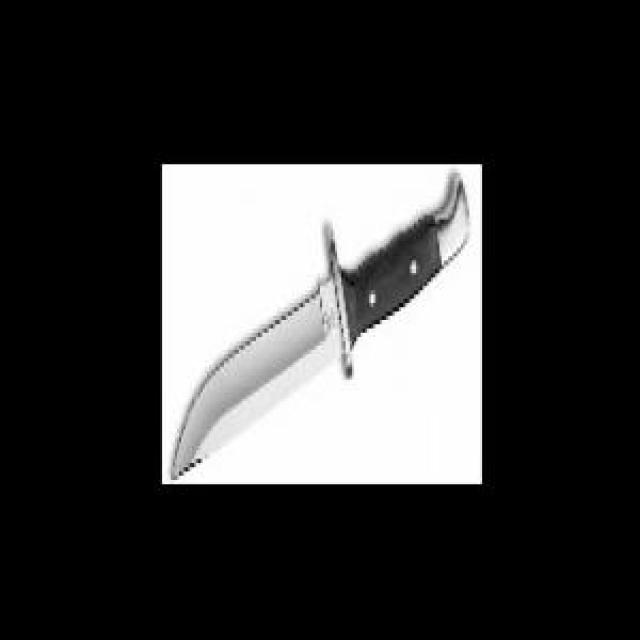knife: (171, 172, 470, 473)
